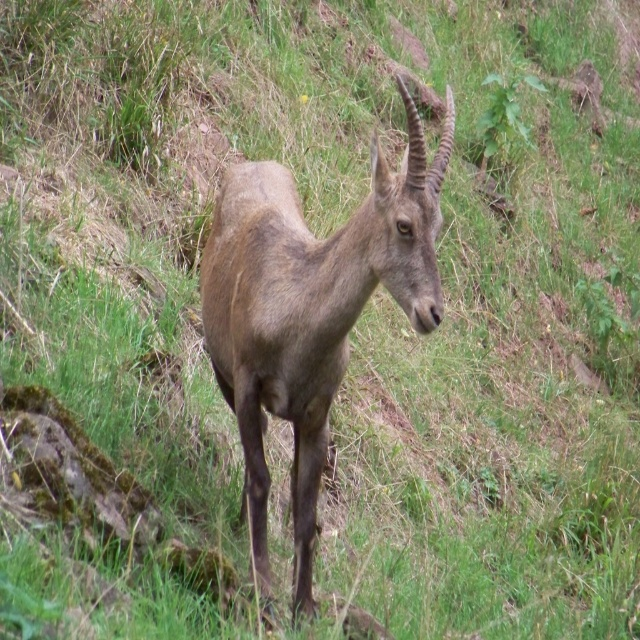Deer: (199, 74, 455, 636)
